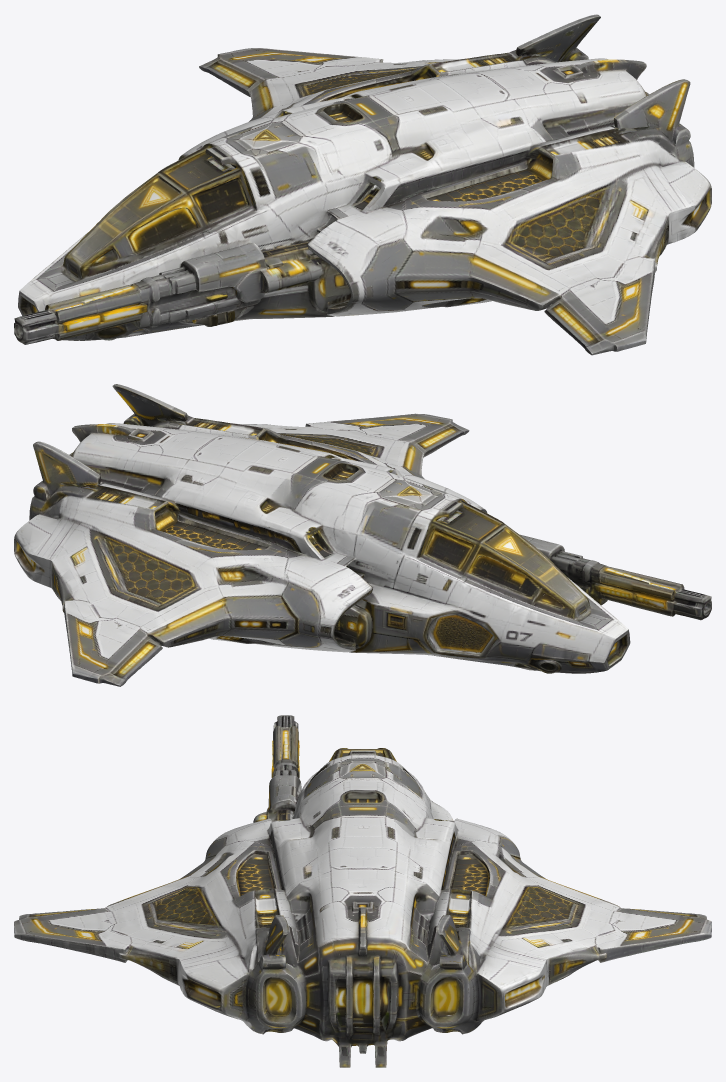
Rendered from puncture.glb.
3 renders of one model, top to bottom at view 1: azimuth 30°, elevation 25°; view 2: azimuth 150°, elevation 25°; view 3: azimuth 270°, elevation 25°, orthographic. The views are drawn at different scales.
Visible parts, largest first — view 1: mesh_0; view 2: mesh_0; view 3: mesh_0.
Boxes of the visible parts, left/top/right/bottom form: mesh_0: left=14, top=14, right=711, bottom=355; mesh_0: left=14, top=384, right=711, bottom=686; mesh_0: left=14, top=715, right=711, bottom=1067.
Bounding box in the file's own units: 1.85 × 0.4609 × 1.9.
1 material, 1 textured.
